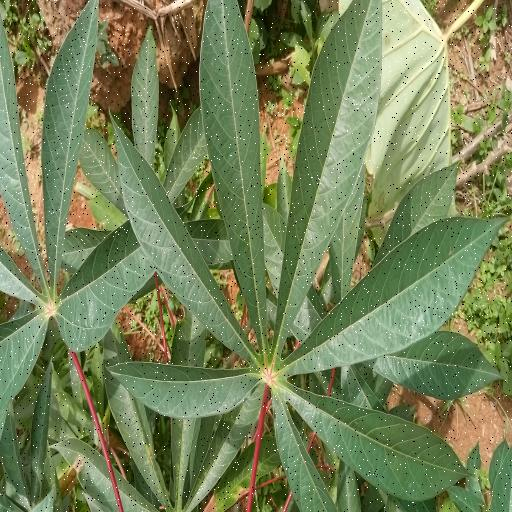Cassava_Healthy: (108, 2, 497, 494)
